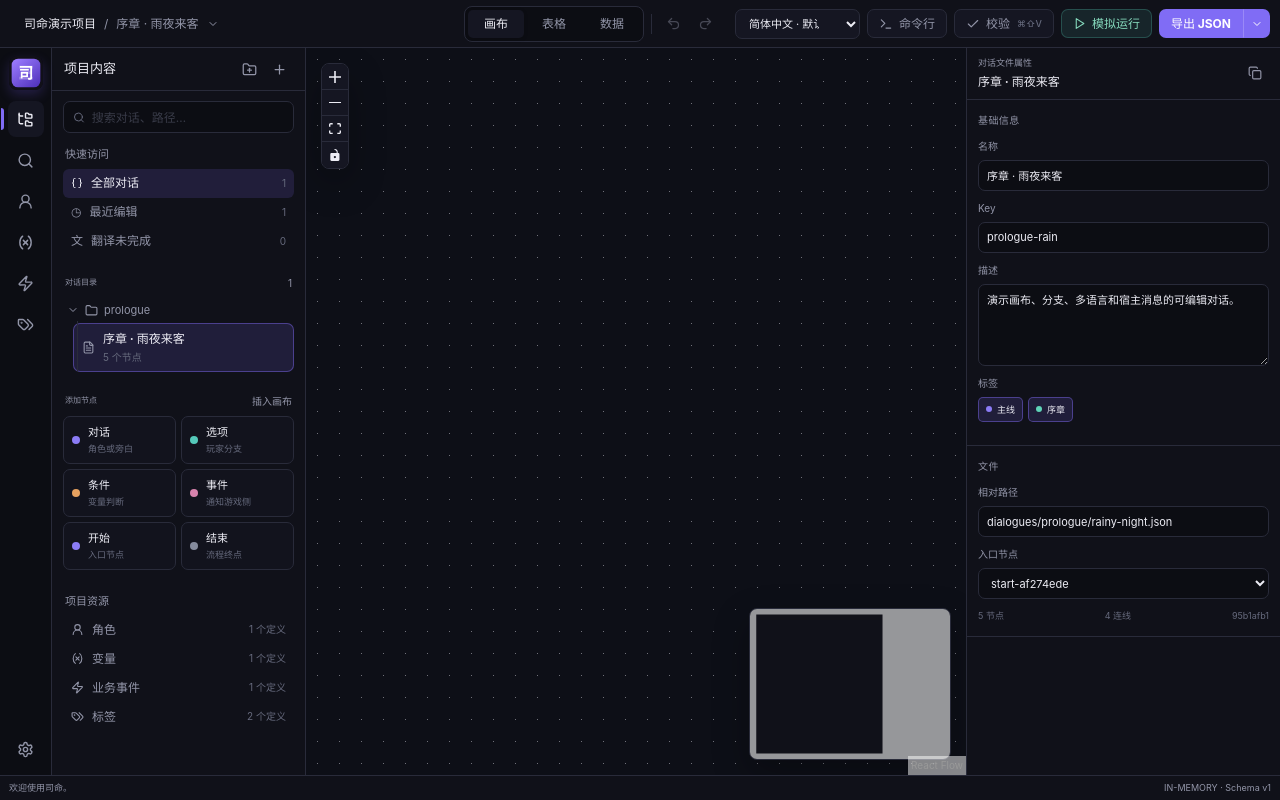
Test: a dialogue directory can be created from the project explorer
Click the button named "新建对话目录" at (249, 69), box [235,55,263,83]
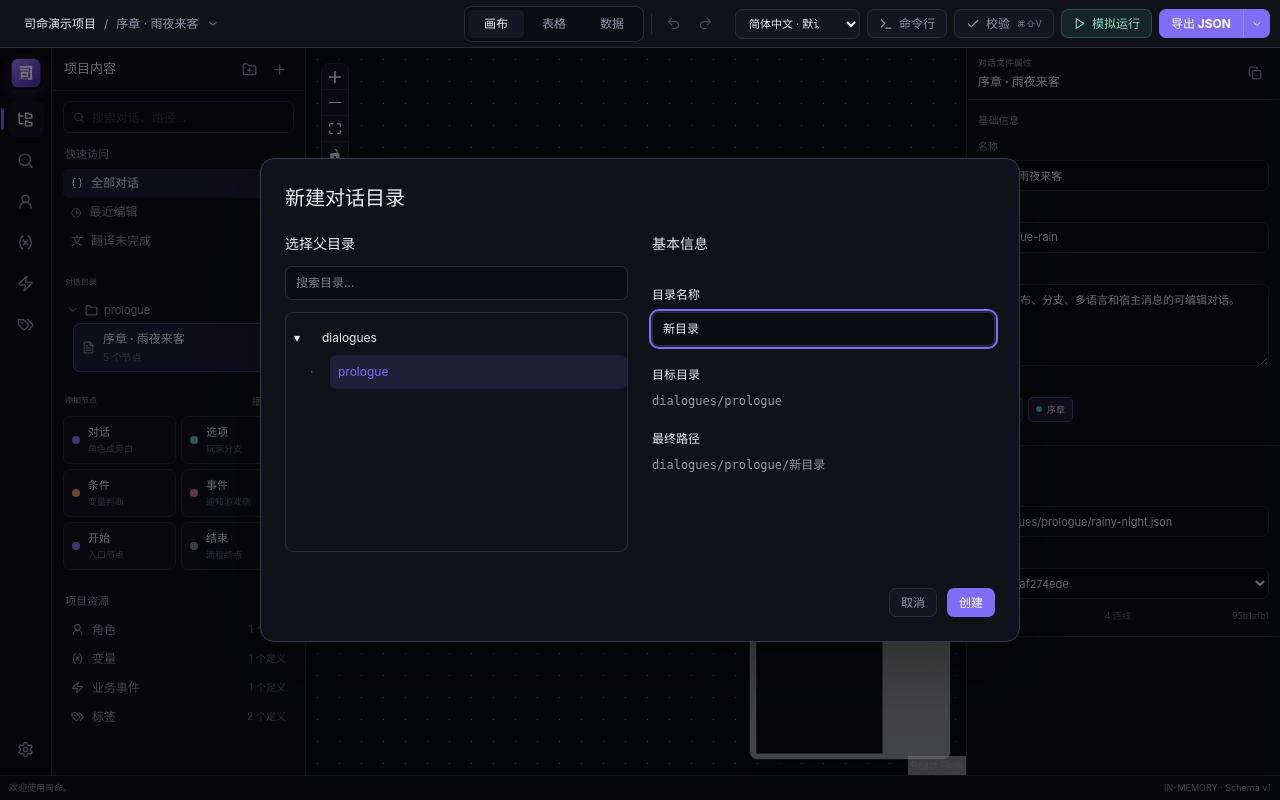
Now the field labelled "目录名称" holds "新目录", box [652,312,995,346]
Click the list item "dialogues" at (349, 338), box [314,321,627,355]
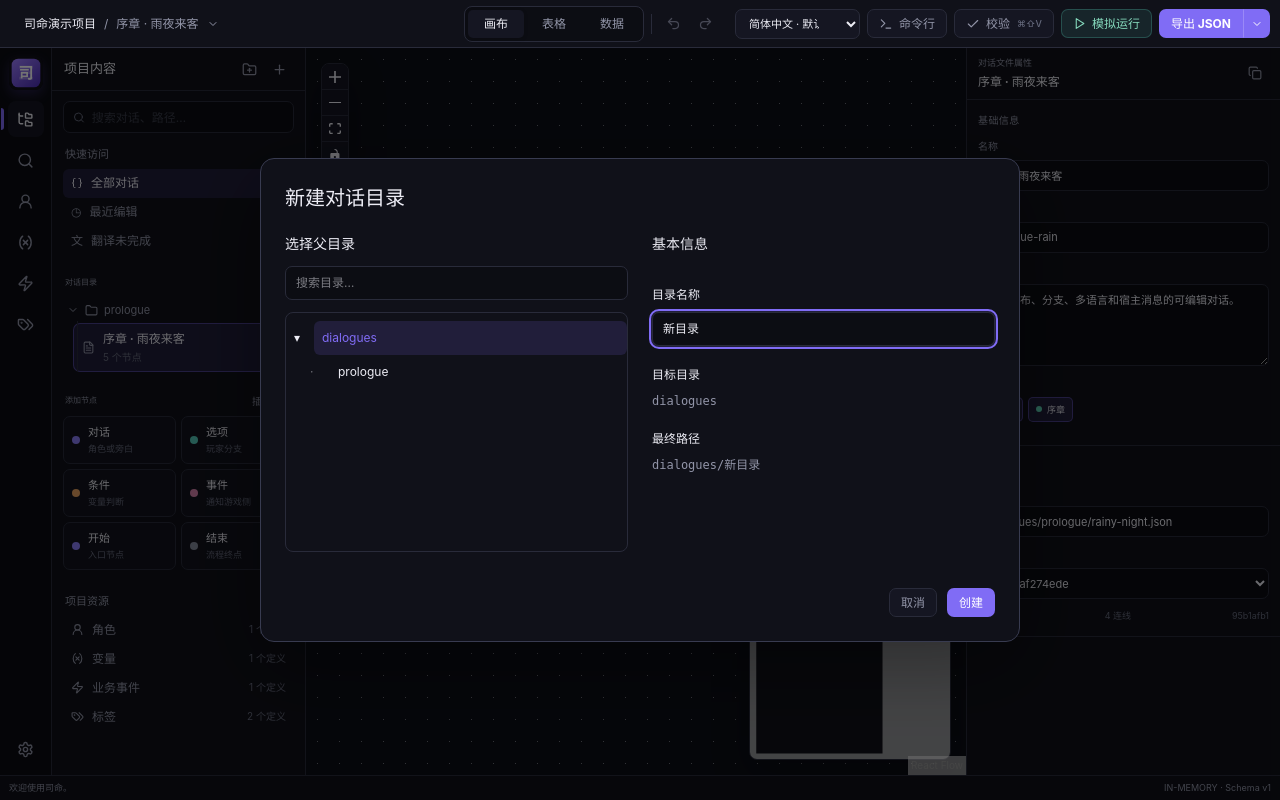
Replace the text in the field labelled "目录名称" with "chapter-2" at (824, 329), box [652,312,995,346]
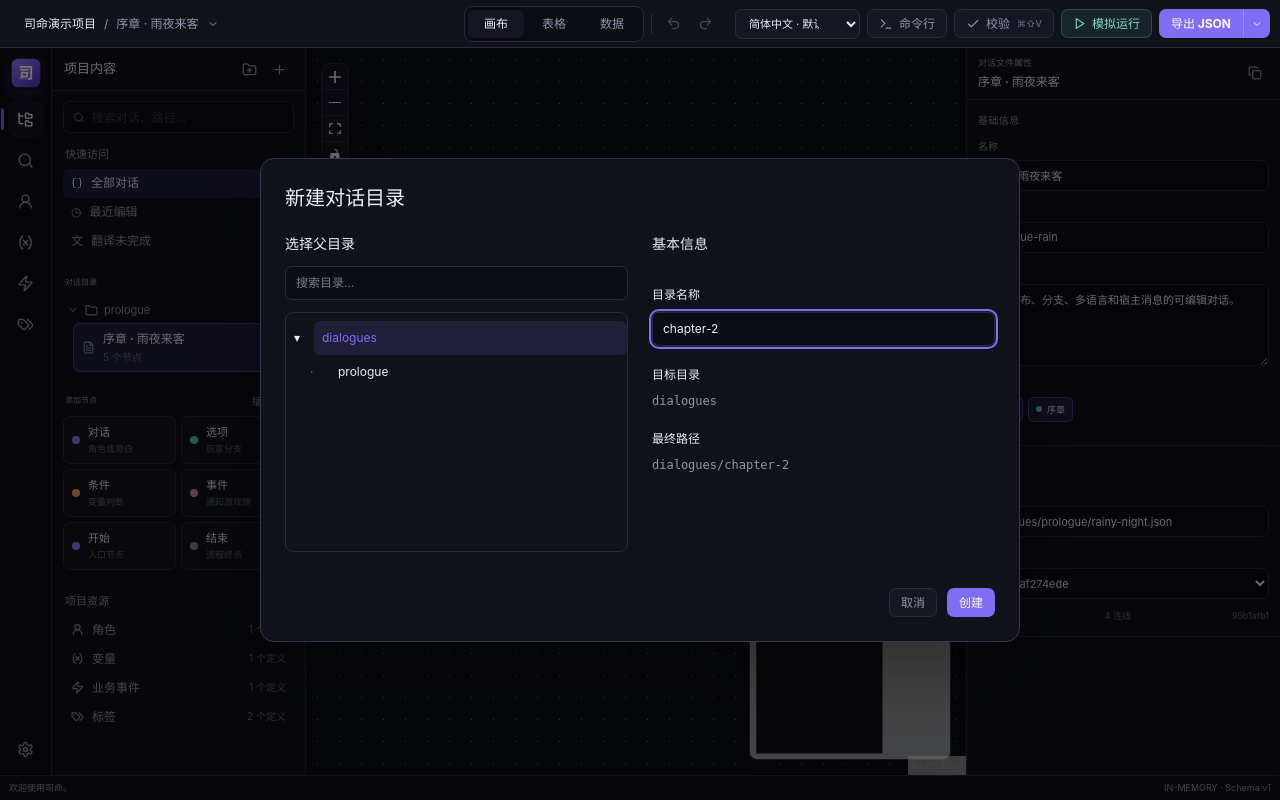
Click the button "创建" at (971, 602), box [947,588,995,617]
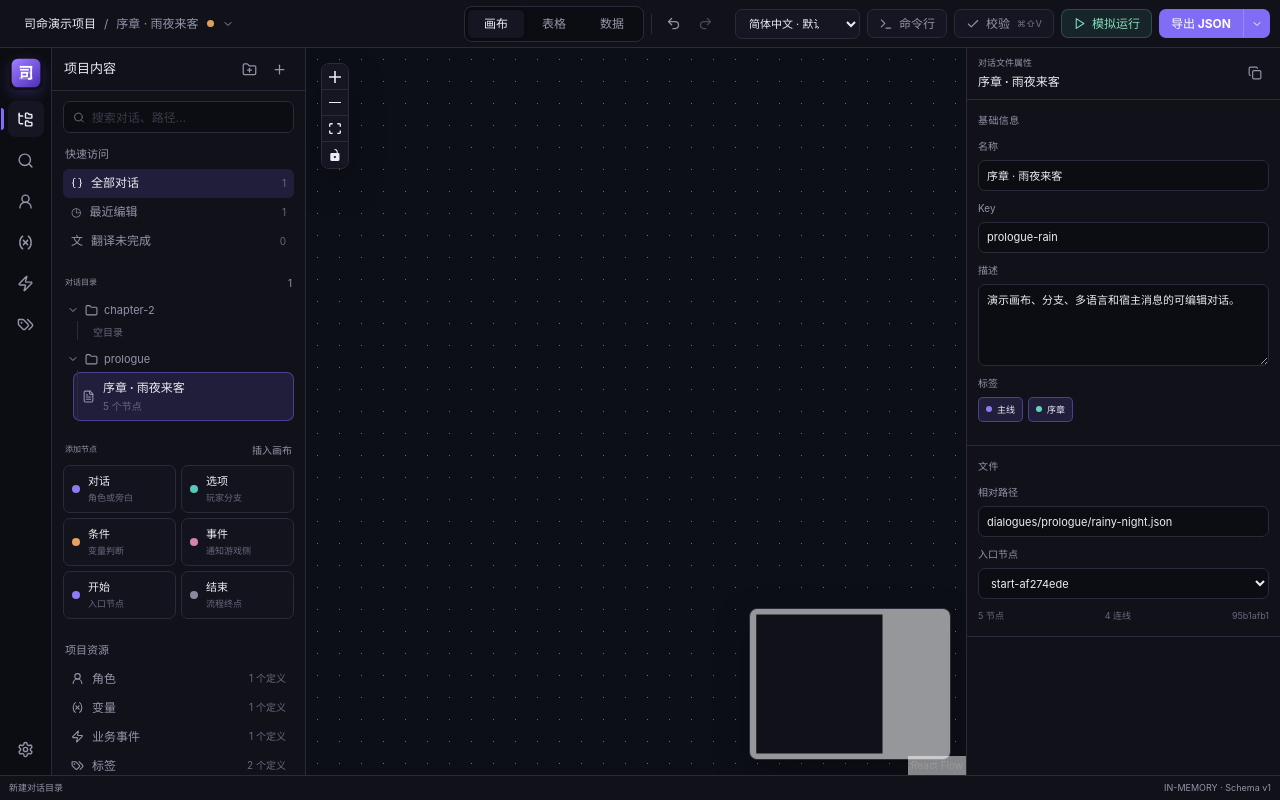
Now the text "chapter-2" is shown, box [104,302,155,318]
Now the text "空目录" is shown, box [93,326,123,338]
